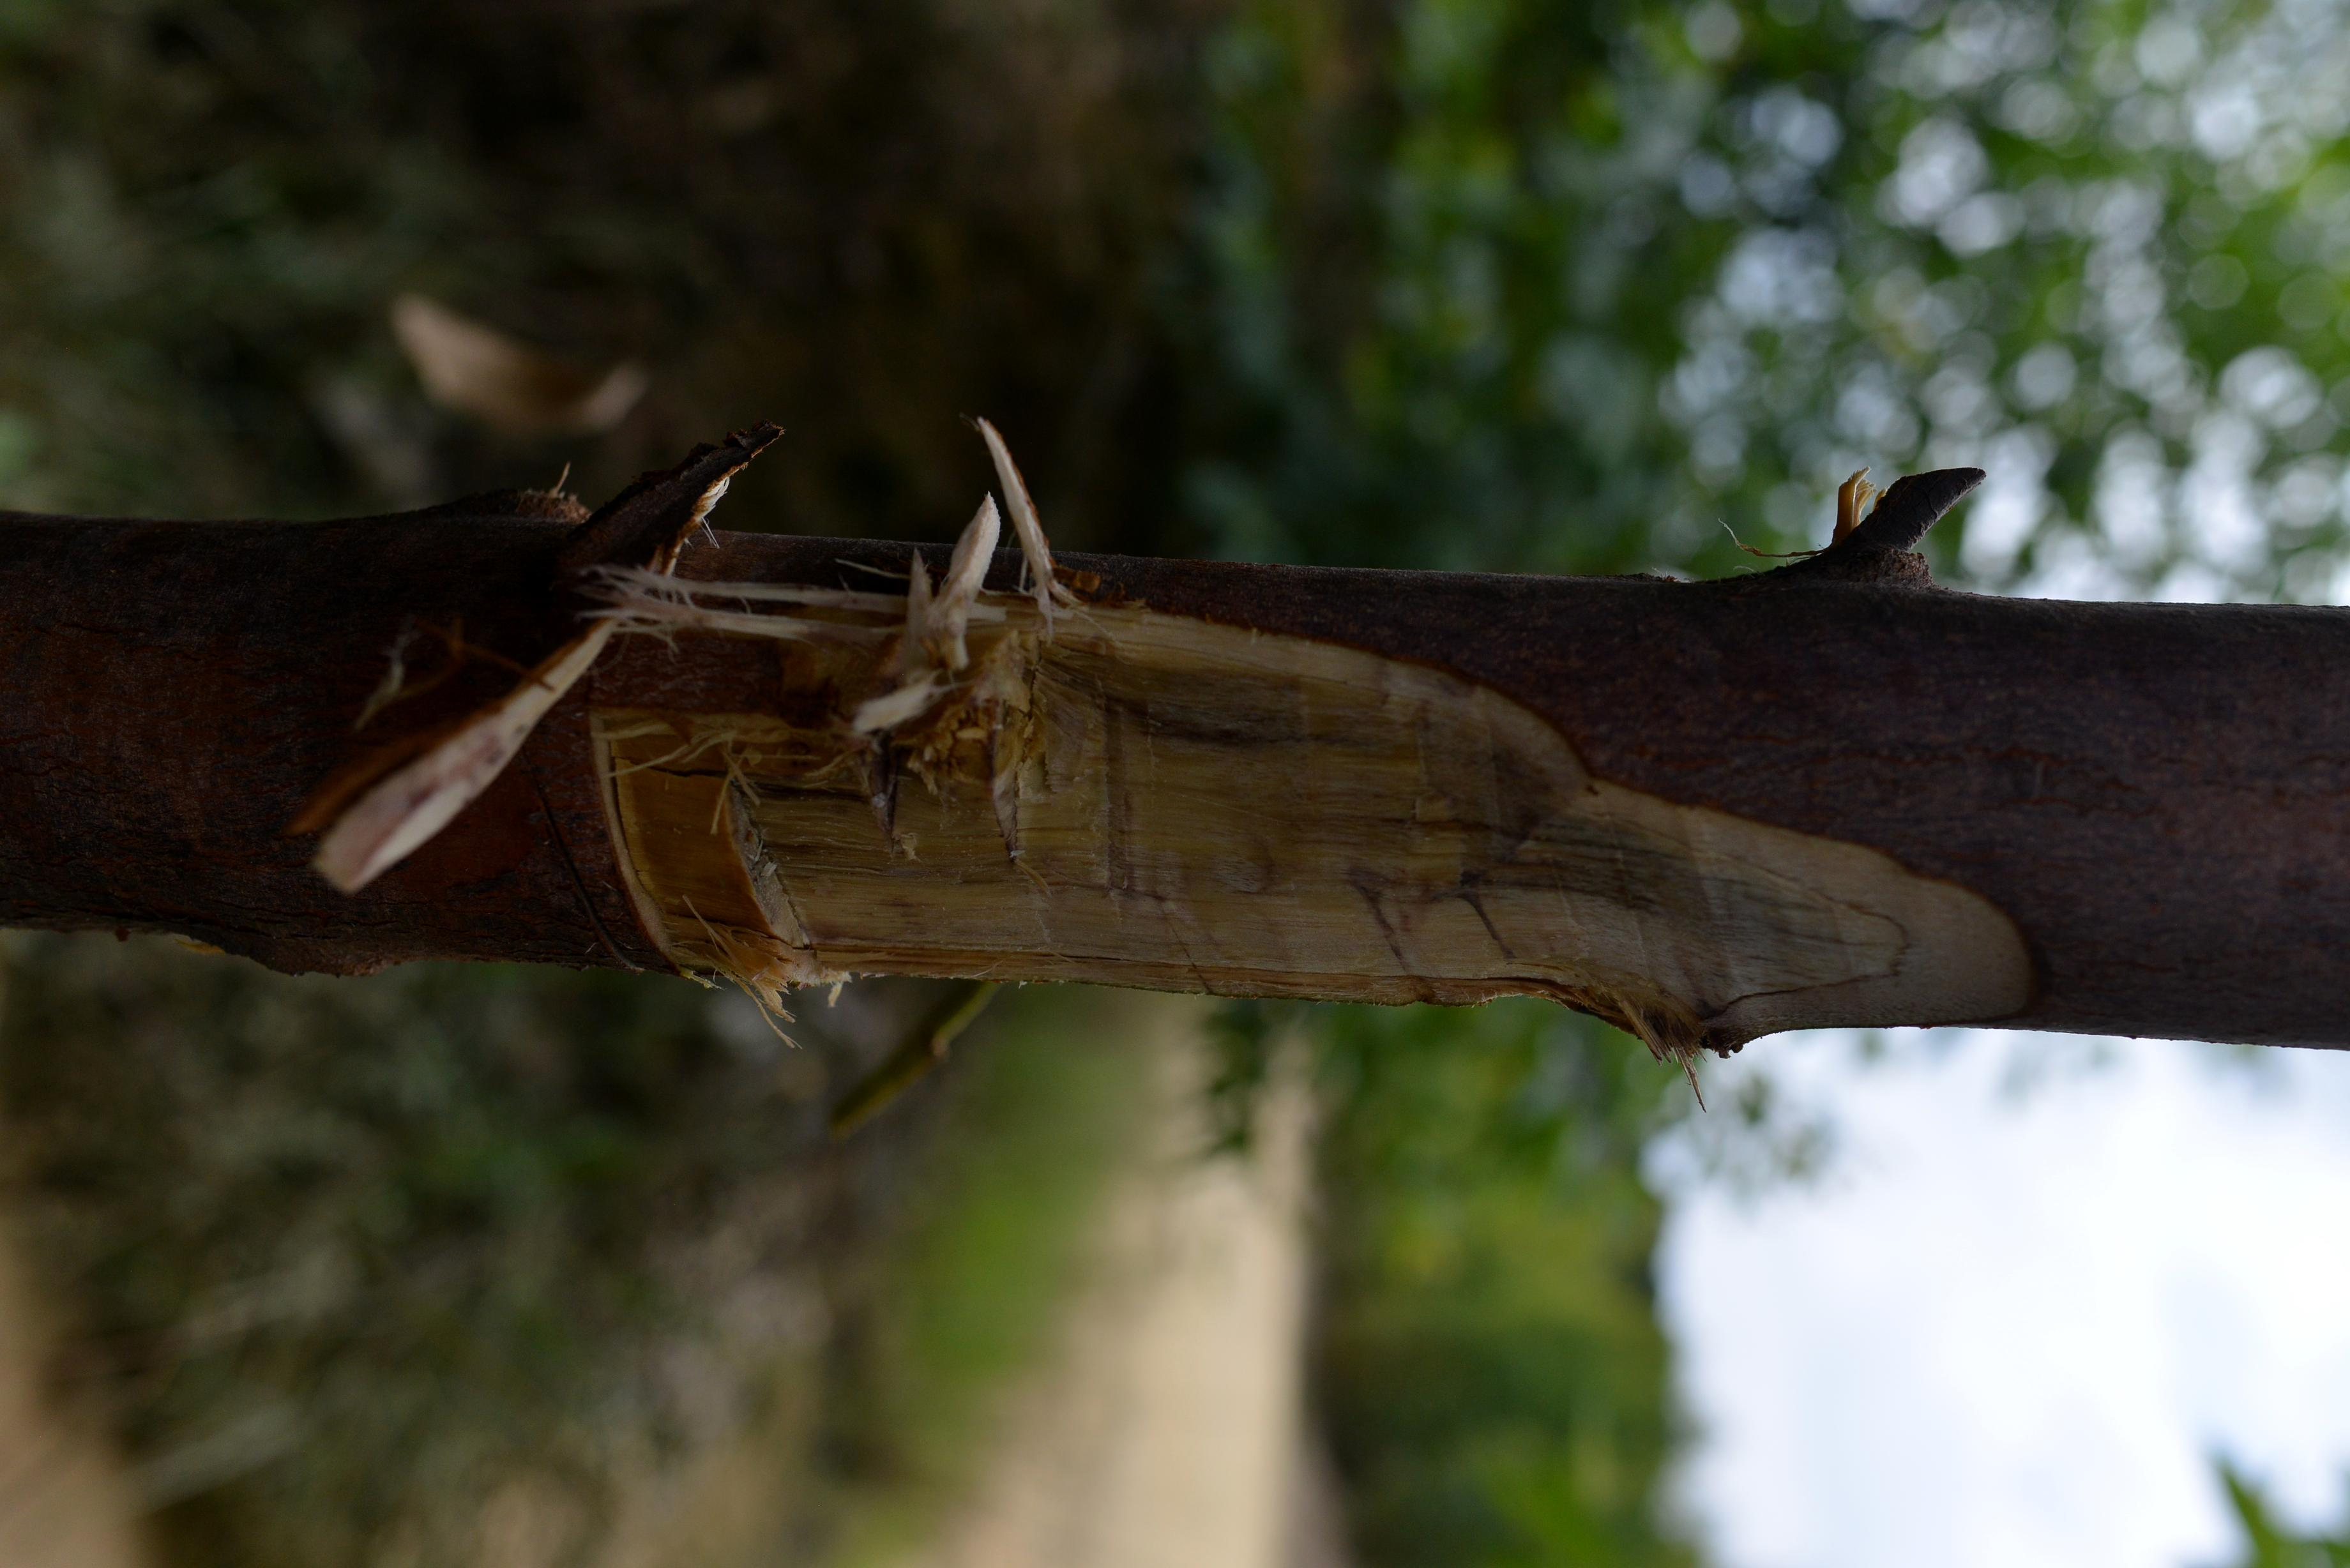Ralstonia: (518, 607, 2023, 1034)
